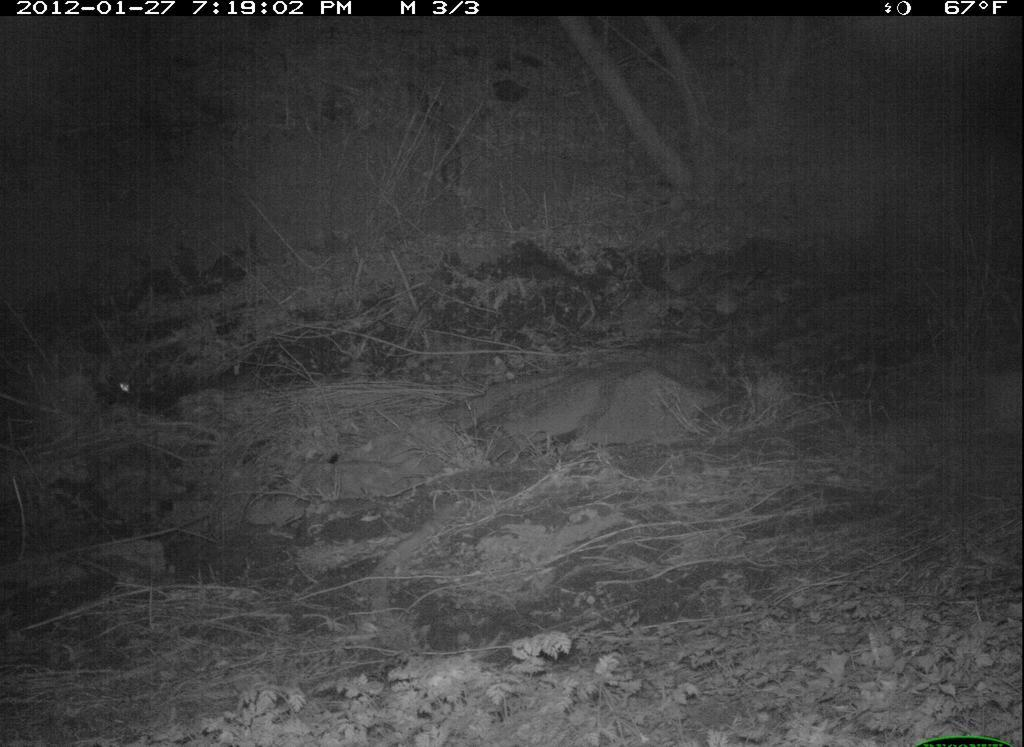rabbit: (85, 332, 173, 419)
